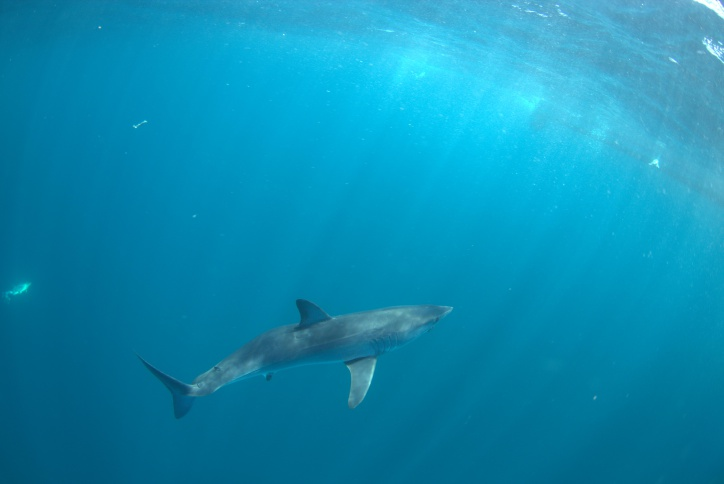Mako: (115, 280, 475, 424)
